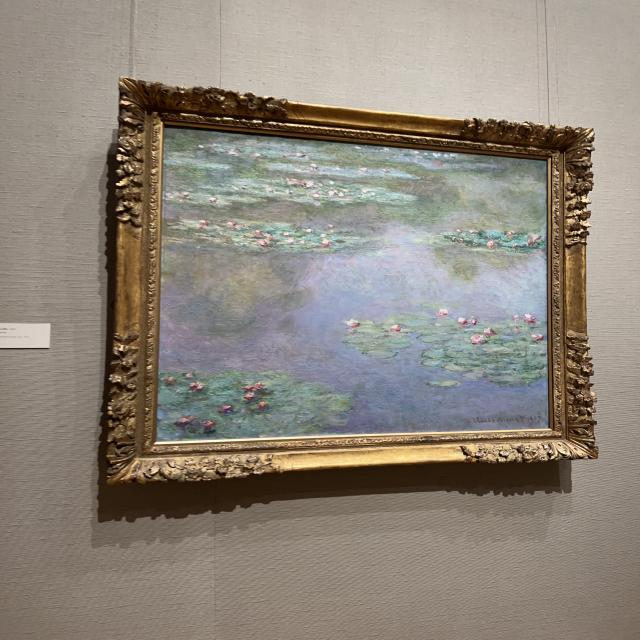lilies: (157, 131, 547, 440)
